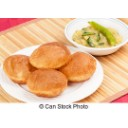poori: (31, 41, 71, 69), (60, 51, 95, 81), (28, 68, 68, 94), (3, 53, 34, 83)
